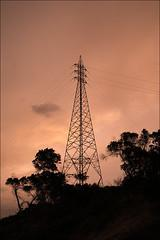power_tower: (57, 51, 106, 189)
